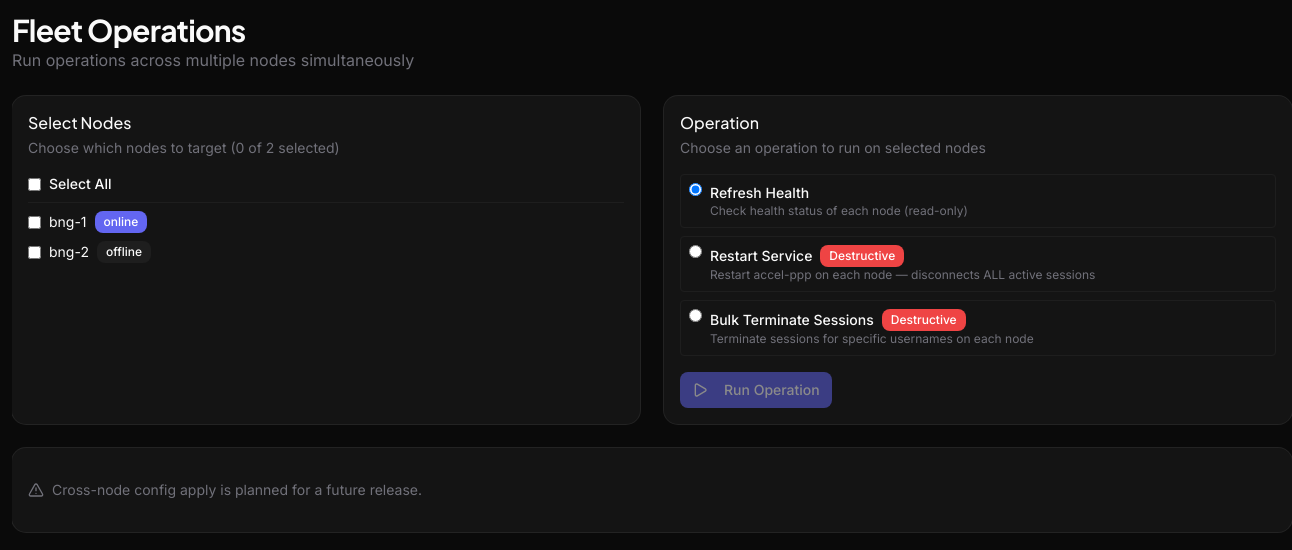
it: OperationsManager › shows selection count in card description
Expected: the text "bng-1" is shown, [49, 212, 87, 232]
Expected: the text "Choose which nodes to target (0 of 2 selected)" is shown, [28, 139, 340, 156]
Click the checkbox named "Select bng-1" at (34, 222), box [28, 216, 41, 228]
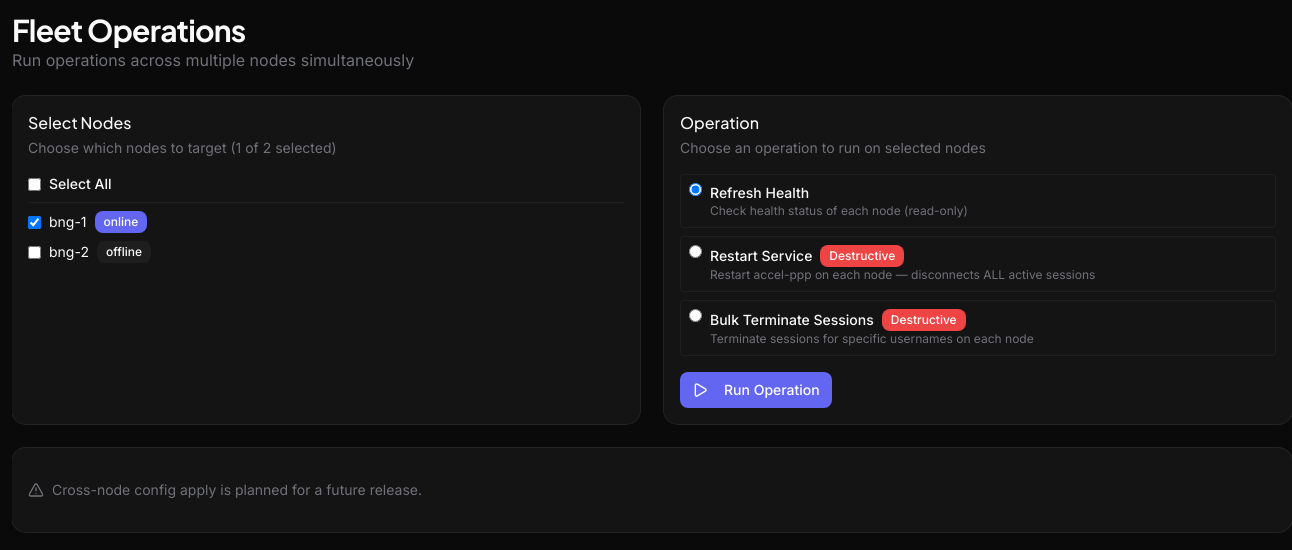
Result: the text "Choose which nodes to target (1 of 2 selected)" is shown at [28, 139, 337, 156]
